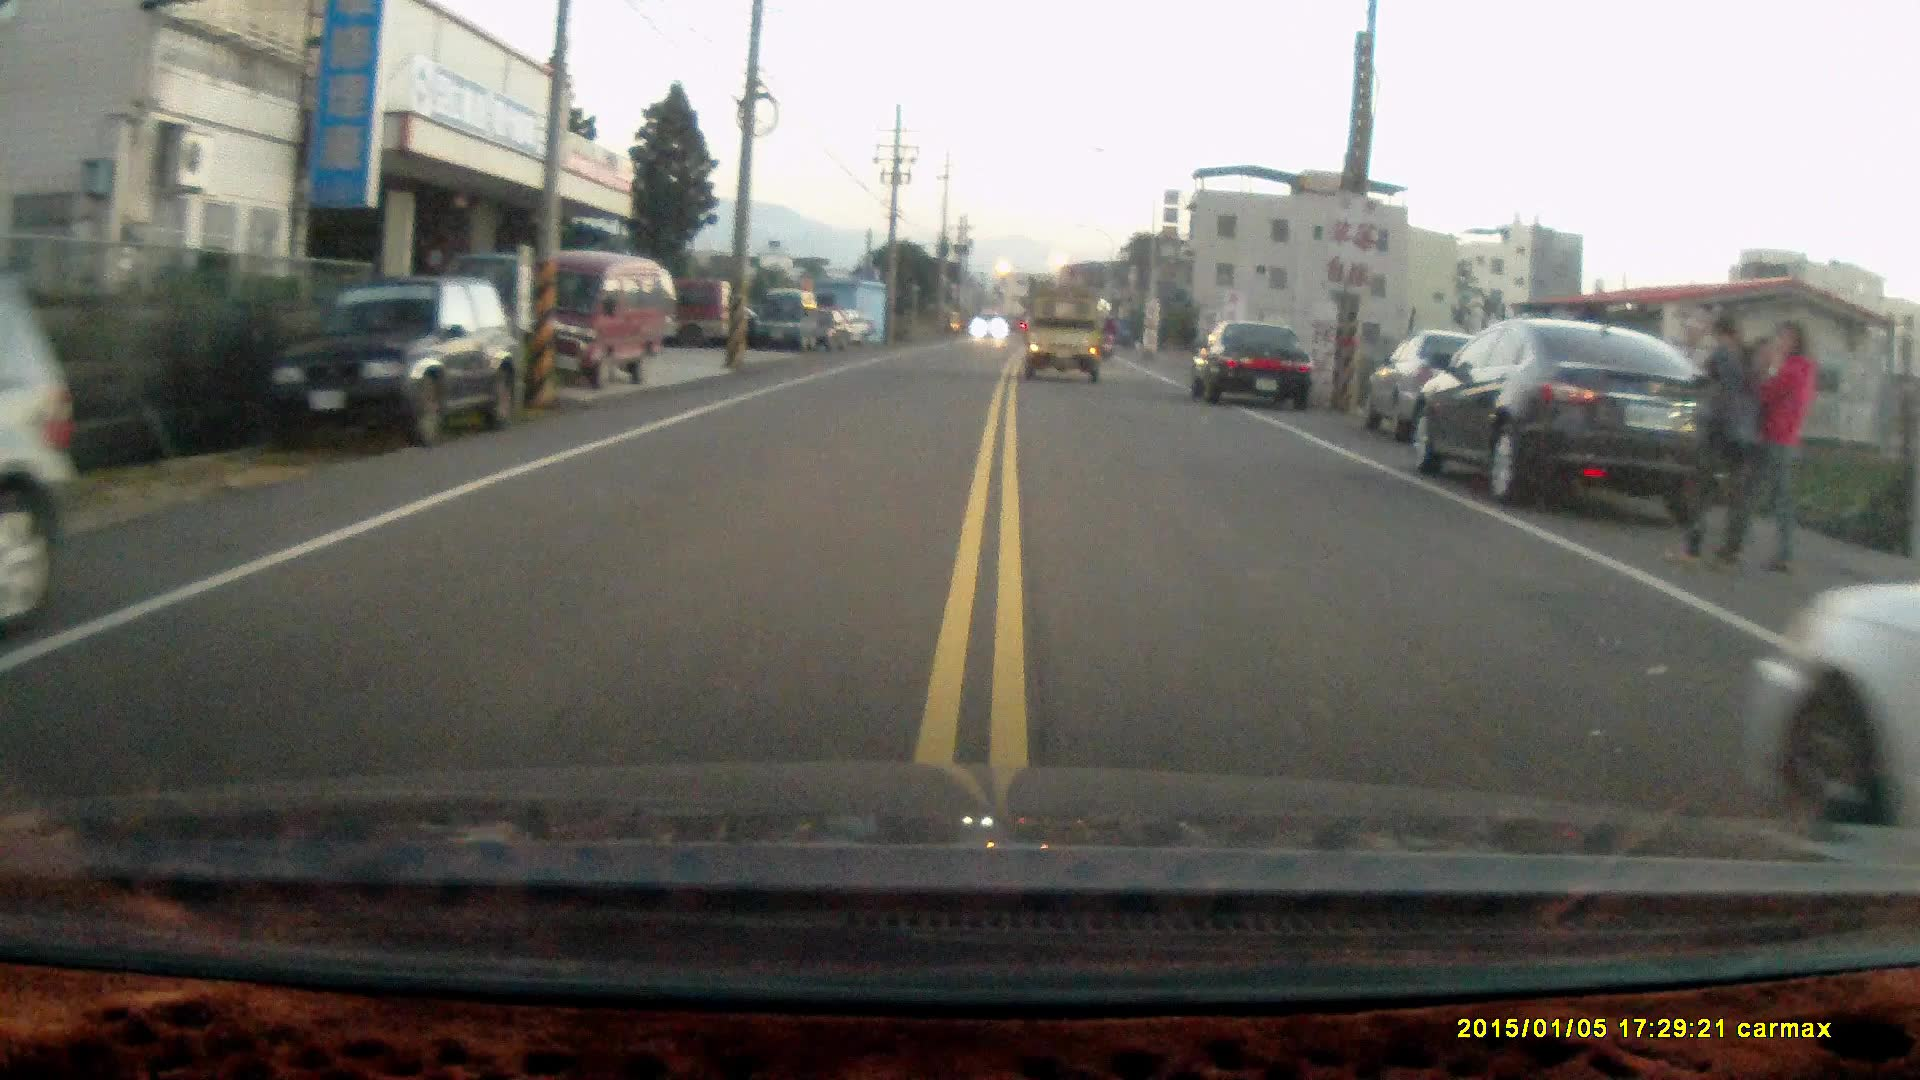pedestrian: (1674, 313, 1763, 572), (1741, 315, 1815, 570)
vehicle: (1408, 317, 1754, 516), (1752, 555, 1920, 852), (273, 271, 520, 450), (4, 292, 81, 627), (500, 249, 679, 383), (1188, 312, 1315, 407), (1025, 291, 1108, 382), (751, 286, 823, 350)
